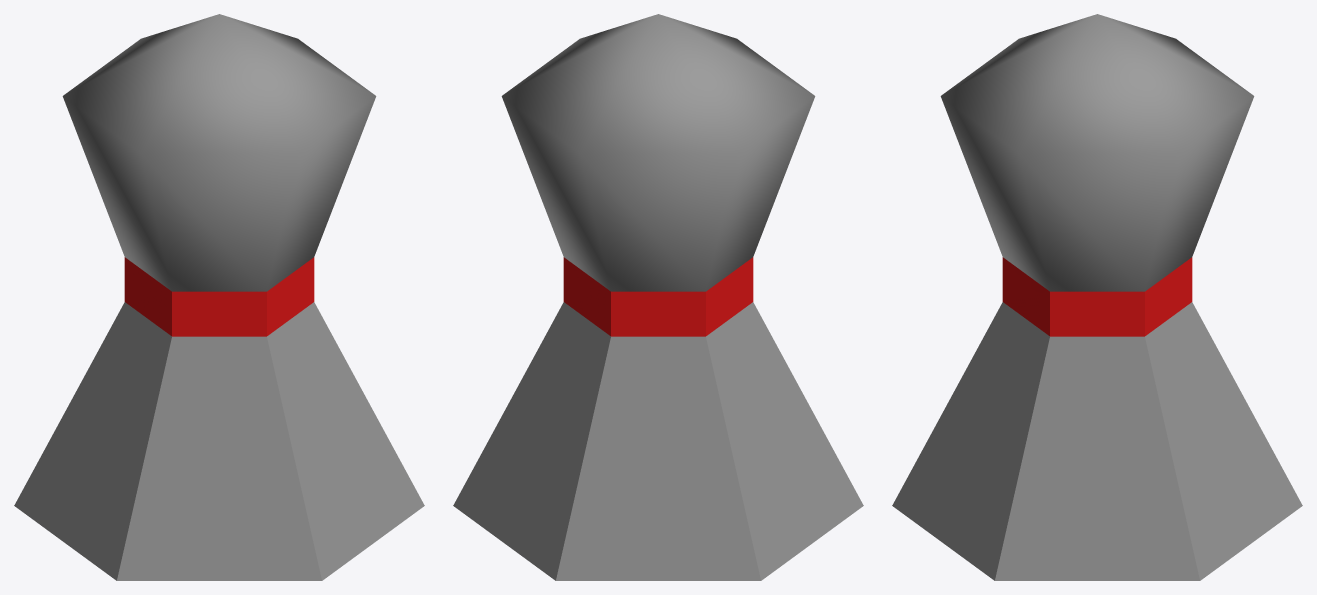
The model's file is Character.FBX.
3 views of the same model, side by side, from view 1: azimuth 30°, elevation 25°; view 2: azimuth 150°, elevation 25°; view 3: azimuth 270°, elevation 25° (orthographic).
Parts seen in each view (by area): view 1: Sphere001; view 2: Sphere001; view 3: Sphere001.
Part boxes in pixels (<box>): Sphere001: <box>14,14,424,580</box>; Sphere001: <box>453,14,863,580</box>; Sphere001: <box>892,14,1302,580</box>.
Bounding box in the file's own units: 15.21 × 23.2 × 17.56.
